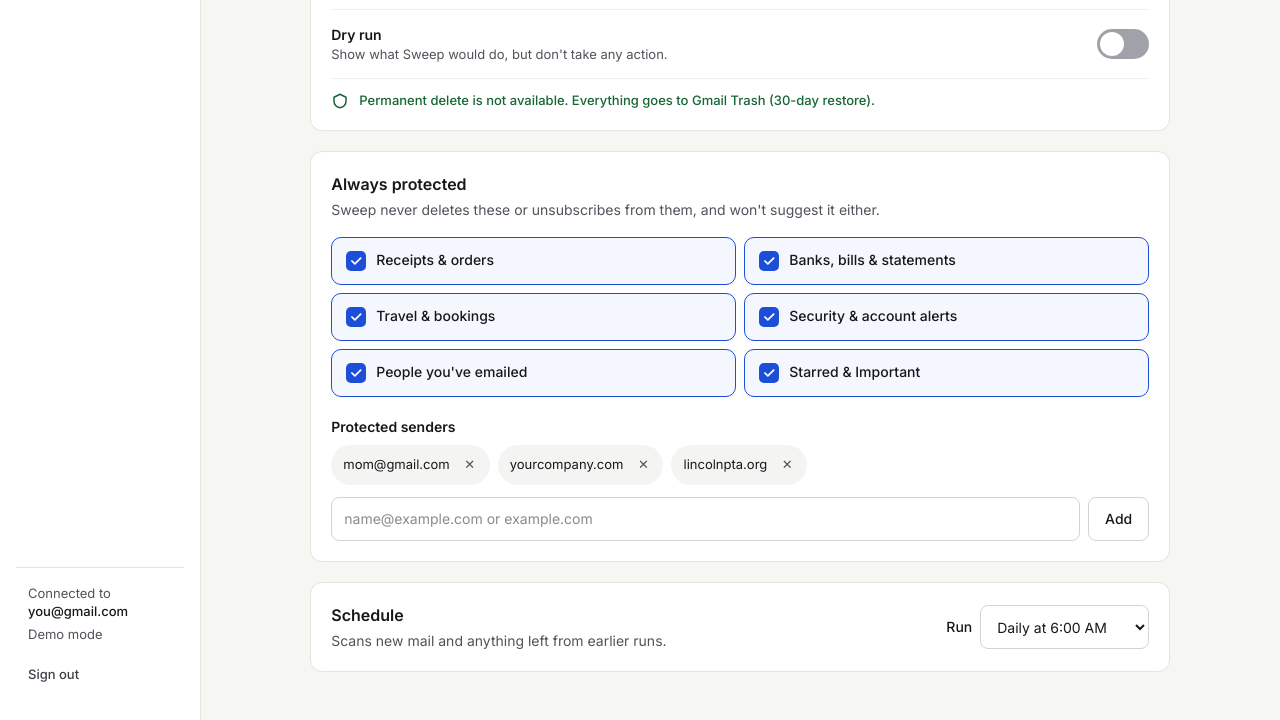
Rules & safety › adds a protected sender with the button or Enter
The width and height of the screenshot is (1280, 720).
(page scrolled)
Type " Delta.com " into the field named "Add a protected sender or domain" at (706, 519), box left=331, top=497, right=1080, bottom=541
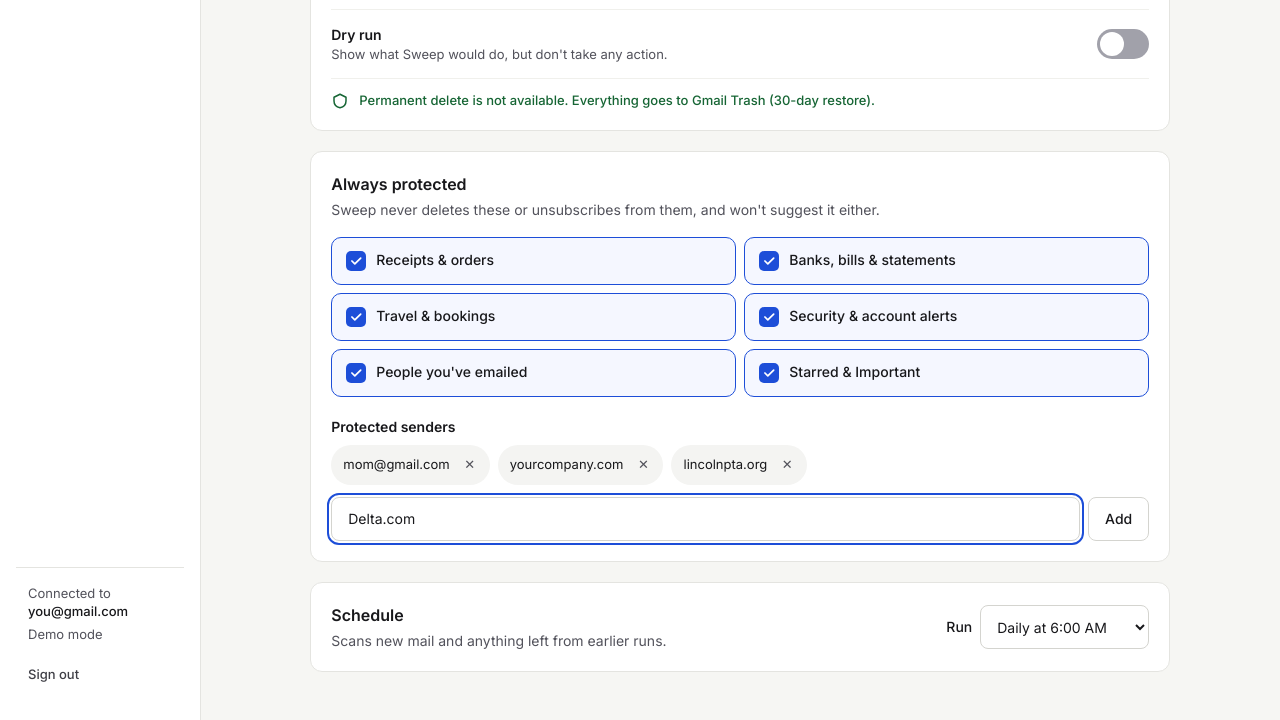
Click the button "Add" at (1119, 519), box left=1088, top=497, right=1149, bottom=541
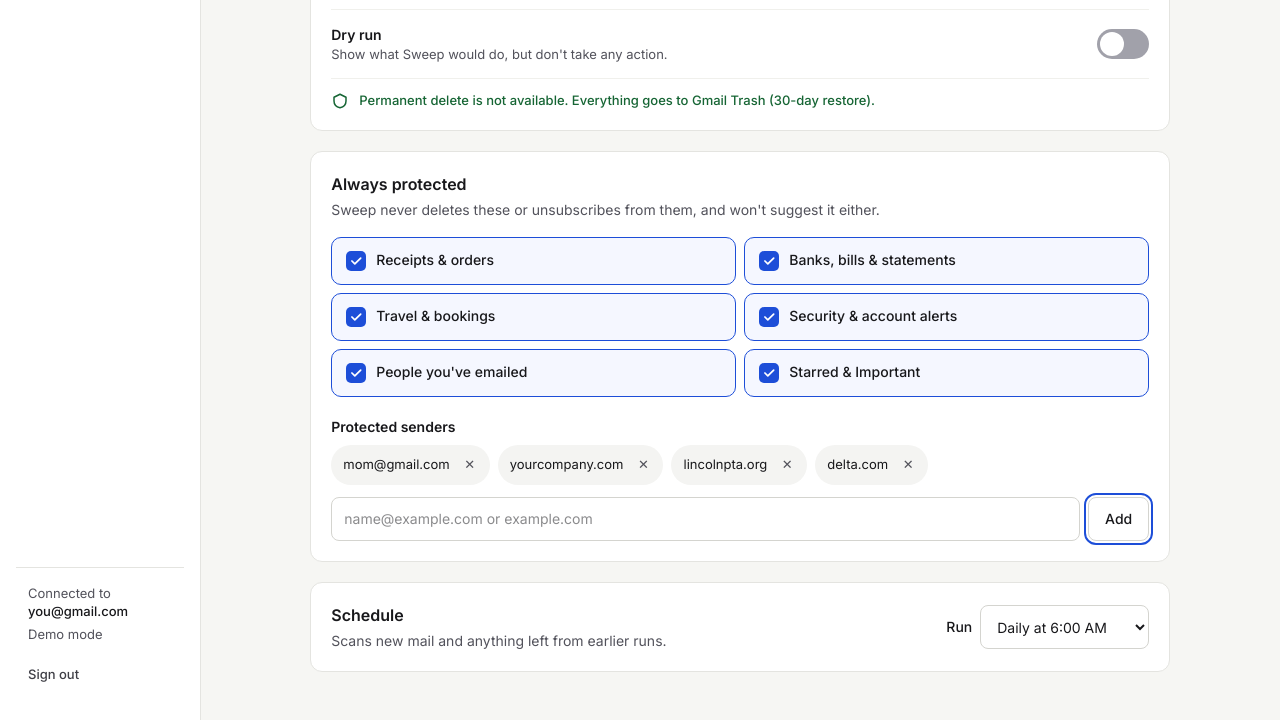
Check: the text "delta.com" is shown, box left=827, top=456, right=888, bottom=472
Check: the button named "Remove delta.com" is shown, box left=894, top=451, right=922, bottom=479
Check: the field named "Add a protected sender or domain" is empty
Type "dad@gmail.com" into the field named "Add a protected sender or domain" at (706, 519), box left=331, top=497, right=1080, bottom=541
Then press Enter
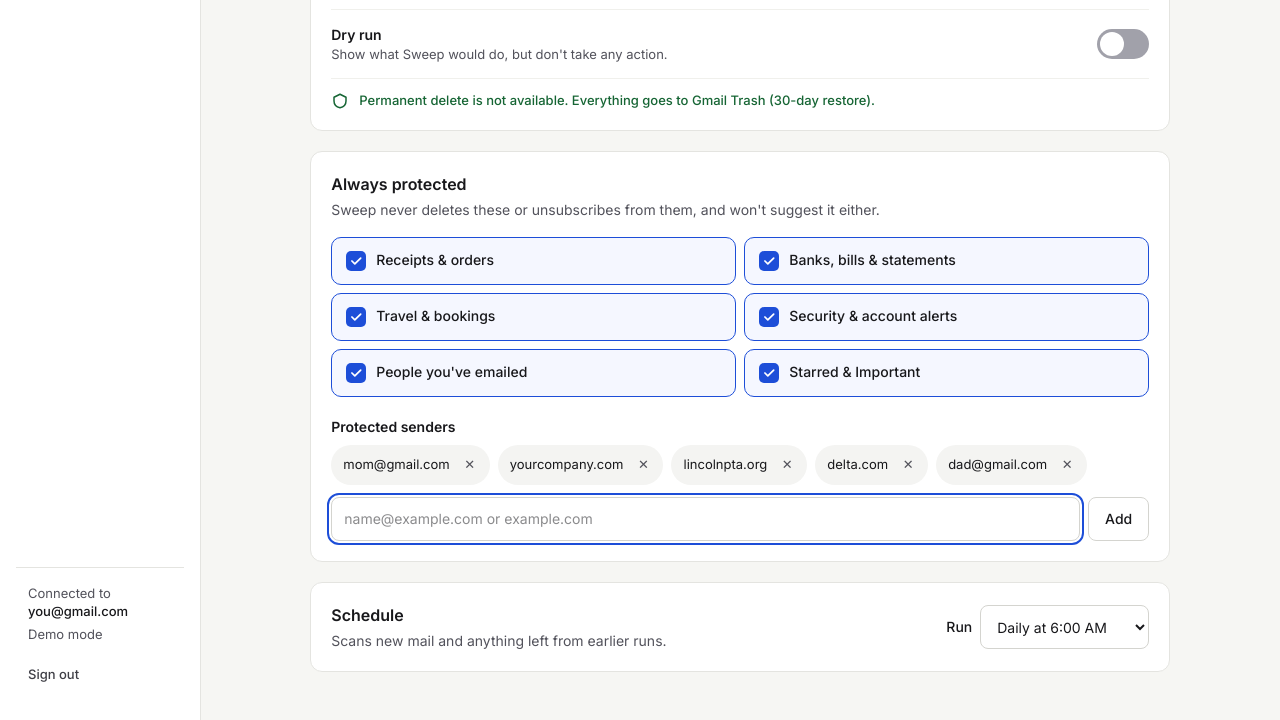
Check: the button named "Remove dad@gmail.com" is shown, box left=1053, top=451, right=1081, bottom=479
